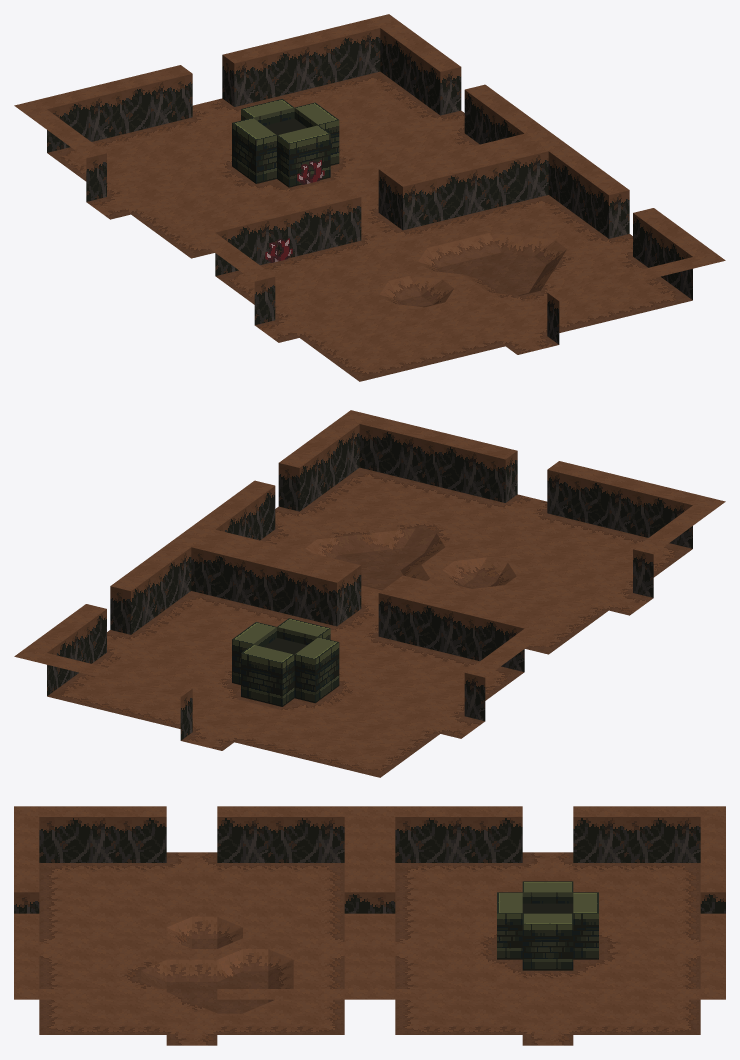
The model's file is dungeon-cemetary.glb.
3 renders of one model, top to bottom at view 1: azimuth 30°, elevation 25°; view 2: azimuth 150°, elevation 25°; view 3: azimuth 270°, elevation 25°, orthographic. The views are drawn at different scales.
Visible parts, largest first — view 1: Environment-Fixed; view 2: Environment-Fixed; view 3: Environment-Fixed.
Part boxes in pixels (x1=…): Environment-Fixed: x1=14, y1=14, x2=725, y2=381; Environment-Fixed: x1=14, y1=410, x2=725, y2=777; Environment-Fixed: x1=14, y1=806, x2=725, y2=1045.
Size of the model in its own units: 18 by 2.5 by 28.
1 material, 1 textured.
